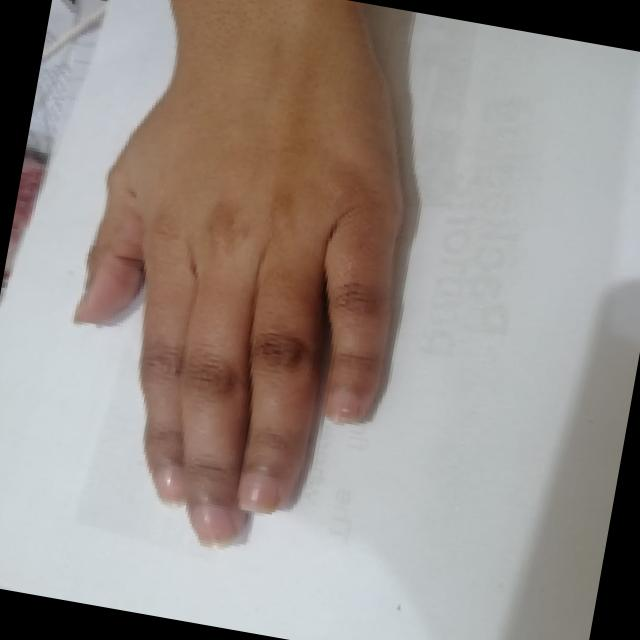Nail: (192, 504, 233, 544), (238, 474, 278, 513), (325, 387, 360, 422), (154, 464, 184, 502)
